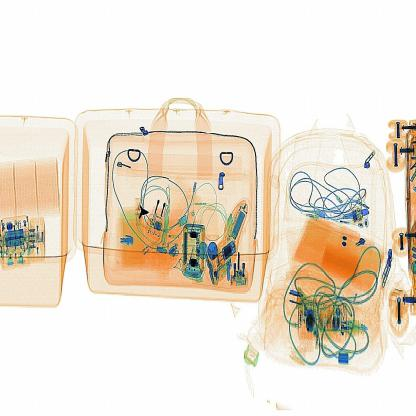gun: (128, 195, 159, 233)
